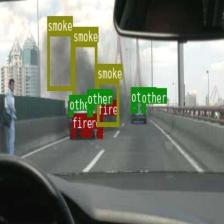fire: (97, 115, 102, 137), (80, 128, 92, 136), (72, 129, 76, 137)
smoke: (46, 30, 72, 90), (72, 42, 97, 98), (96, 79, 119, 125)
